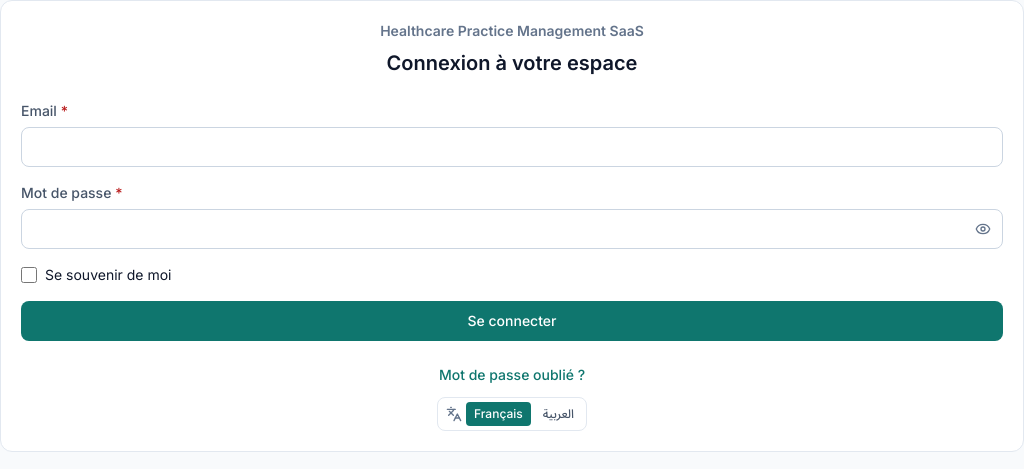
Test: LoginPage › password is masked by default and the toggle reveals it accessibly
Click the button named "Afficher le mot de passe" at (983, 229), box [963, 209, 1003, 249]
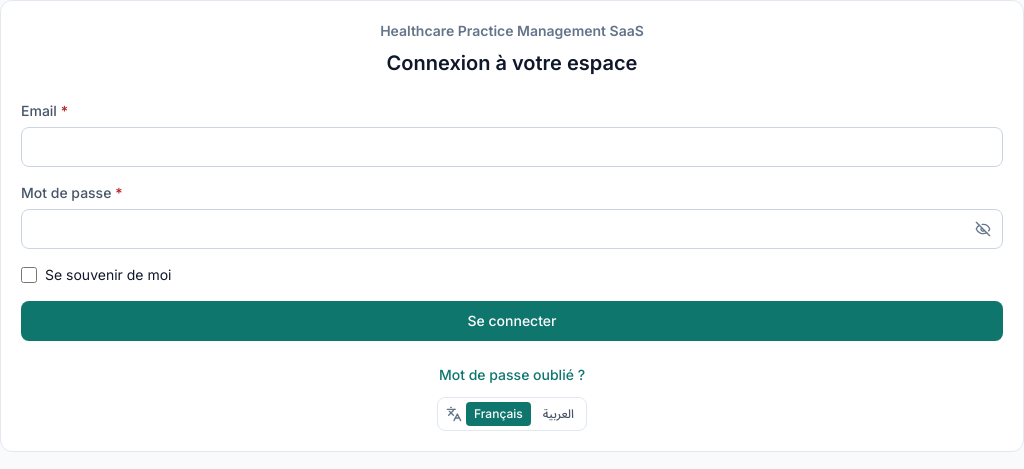
Expected: the button named "Masquer le mot de passe" is shown, [963, 209, 1003, 249]
